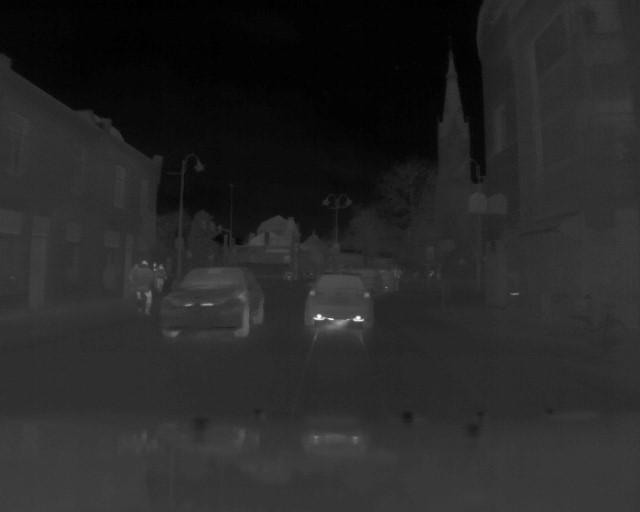car: (160, 266, 268, 335), (303, 271, 376, 335)
person: (133, 258, 153, 321)
